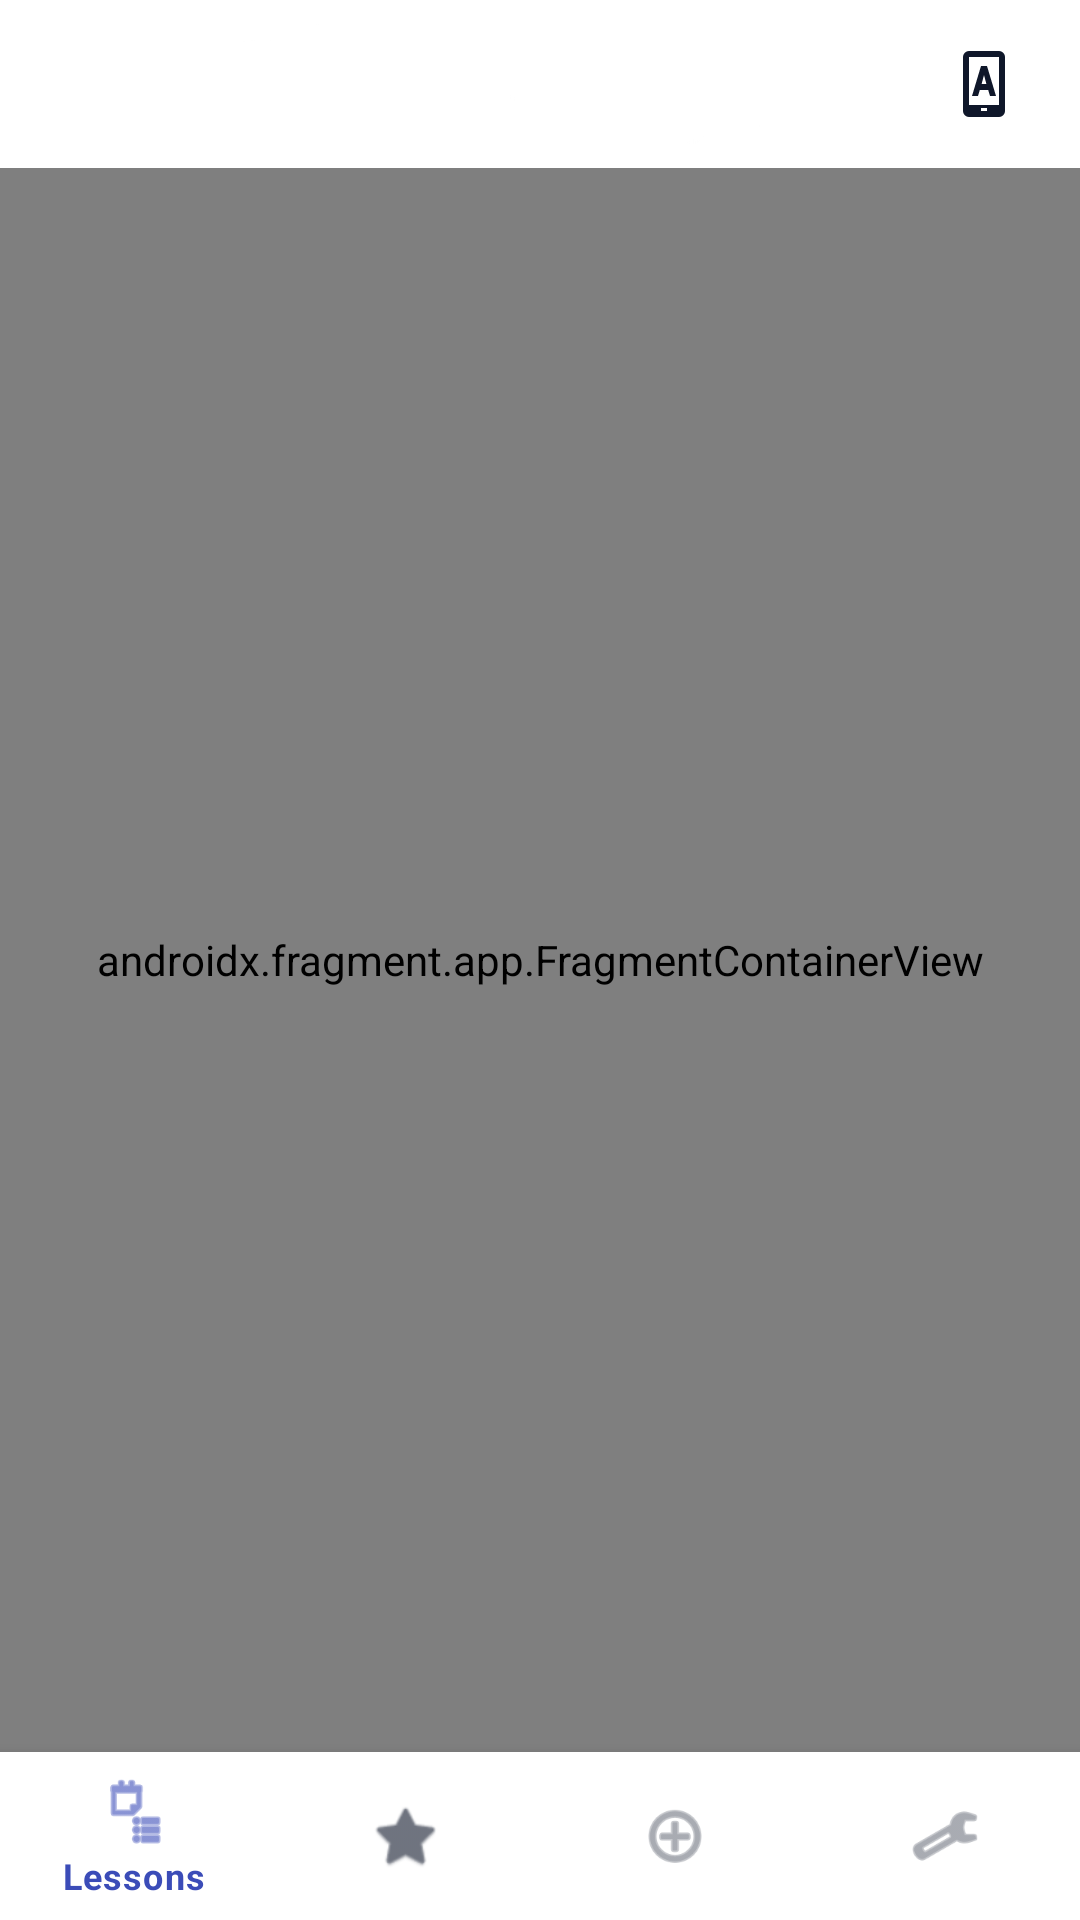

Where to tap for icons on this 1080 × 1920 app screen, as (x,y):
Appearance: (984,84)
